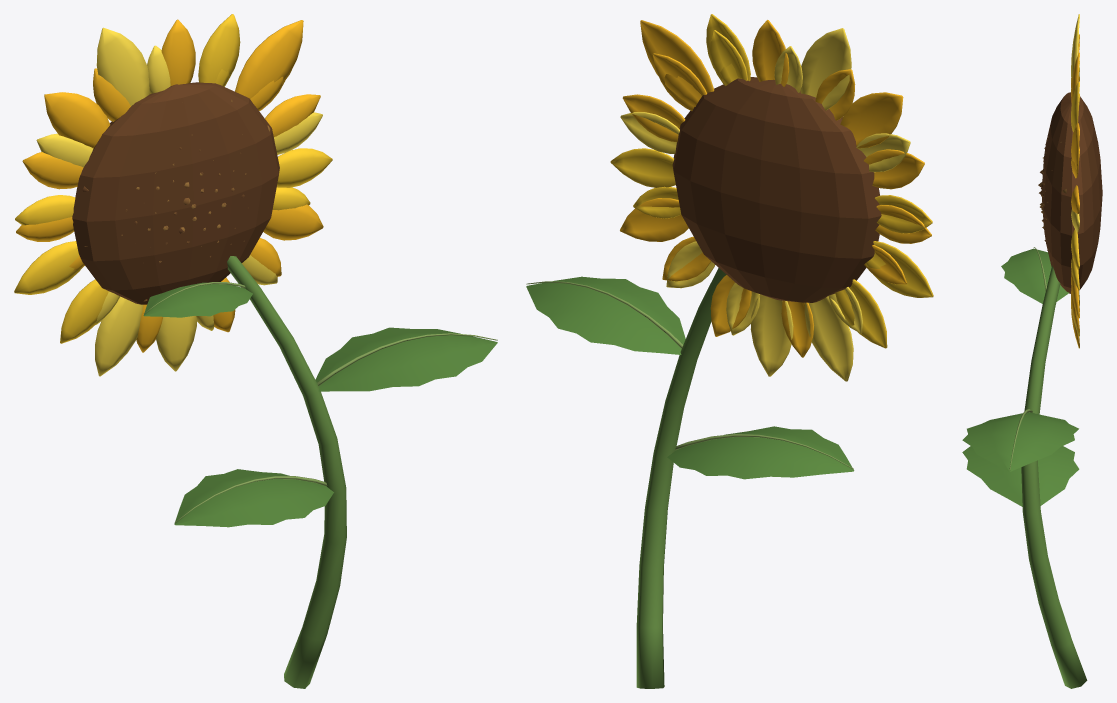
File: sunflower-v2-bloom-1-3.glb
3 renders of one model, left to right at view 1: azimuth 30°, elevation 25°; view 2: azimuth 150°, elevation 25°; view 3: azimuth 270°, elevation 25°, orthographic. The views are drawn at different scales.
Visible parts, largest first — view 1: Curved tapered stem; view 2: Curved tapered stem; view 3: Curved tapered stem.
Part boxes in pixels (left/top/right/bottom): Curved tapered stem: left=14, top=14, right=497, bottom=688; Curved tapered stem: left=526, top=14, right=933, bottom=688; Curved tapered stem: left=962, top=14, right=1102, bottom=688.
Size of the model in its own units: 0.3242 by 0.4916 by 0.1056.
